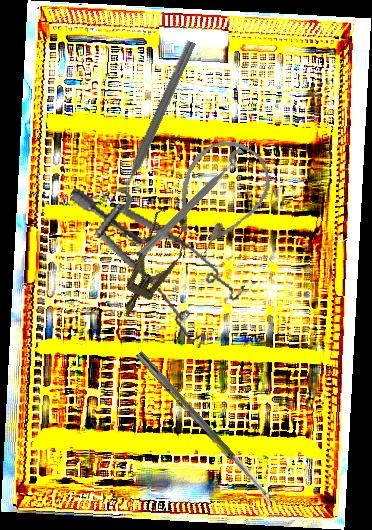Cannula: (154, 126, 283, 266)
Fixation Ring: (97, 33, 202, 216), (136, 146, 255, 265)
Speculum: (44, 187, 258, 356), (106, 205, 198, 325)
Surgical Spoon: (134, 350, 277, 507)
